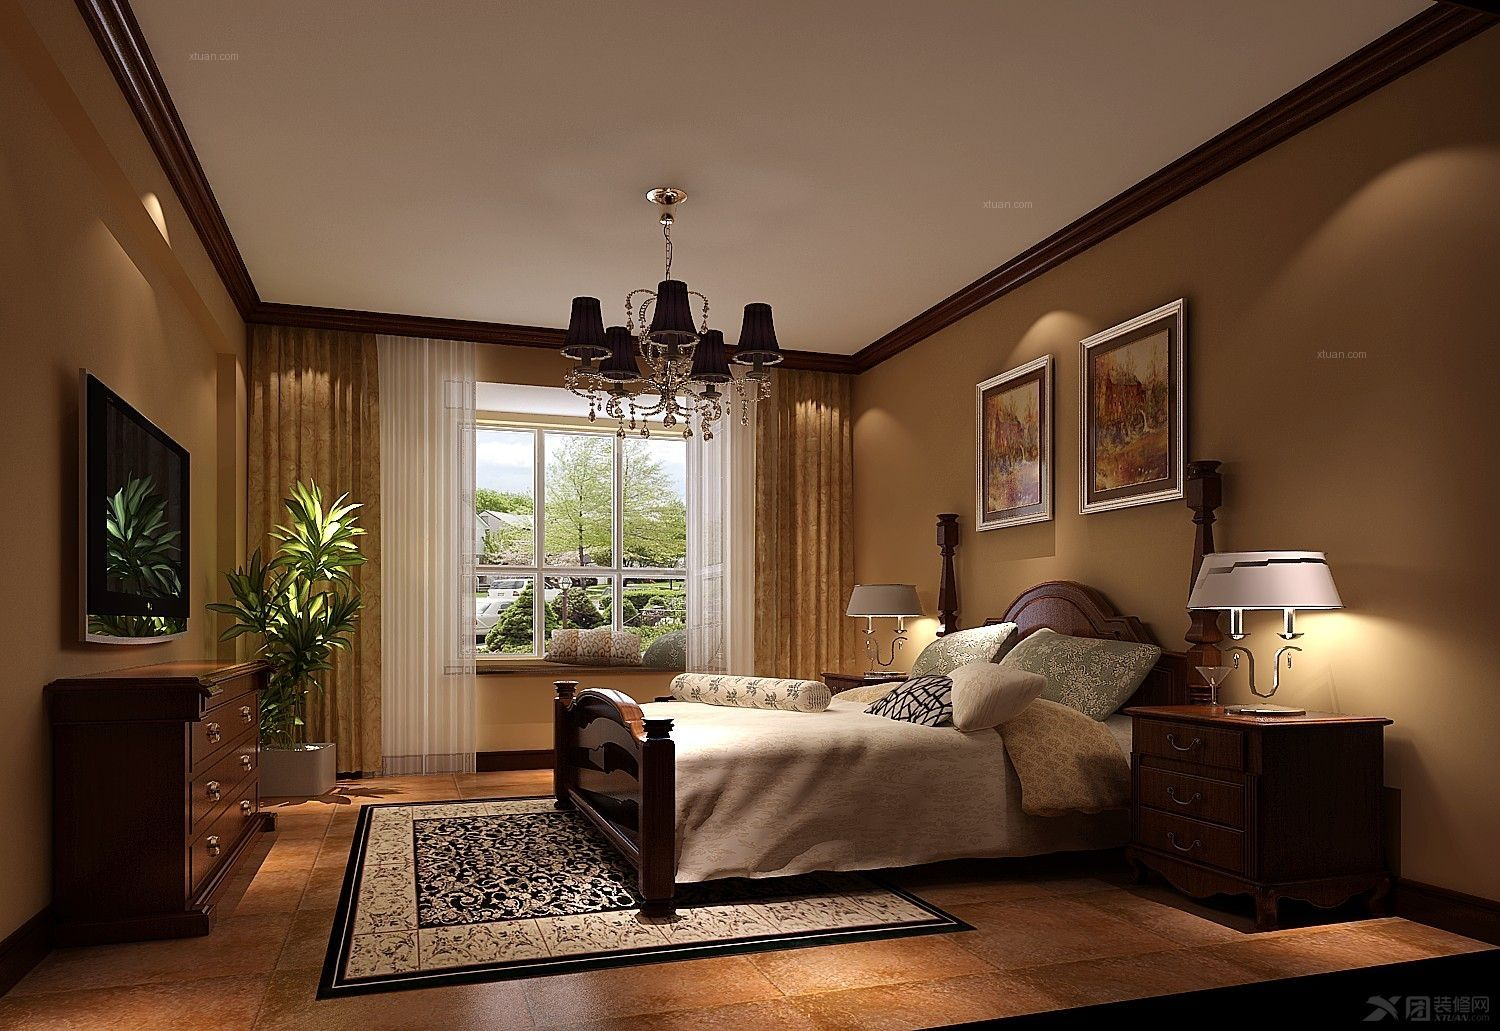床: (574, 665, 1160, 889)
枕头: (919, 621, 1156, 735), (665, 671, 832, 722)
灯: (560, 180, 736, 406), (1195, 548, 1350, 715), (843, 581, 934, 677)
